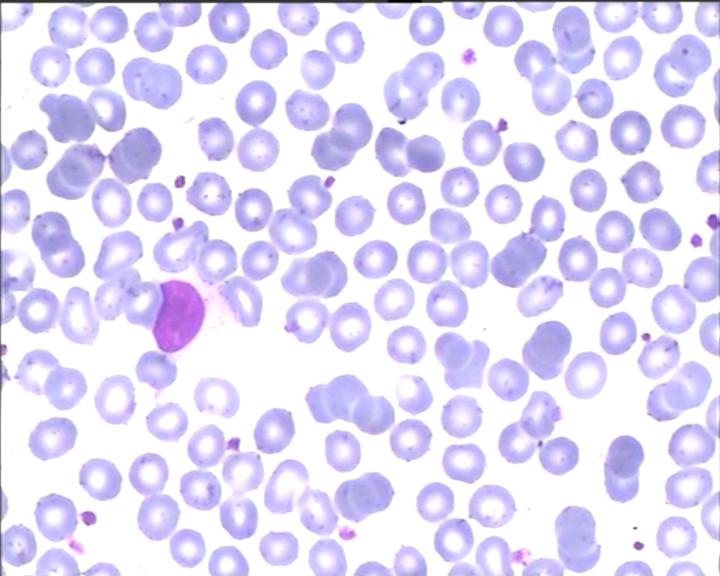mono: (133, 259, 229, 352)
